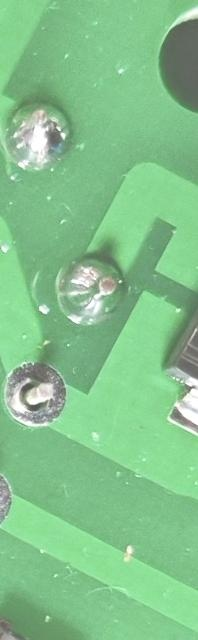diode: (130, 190, 198, 482)
